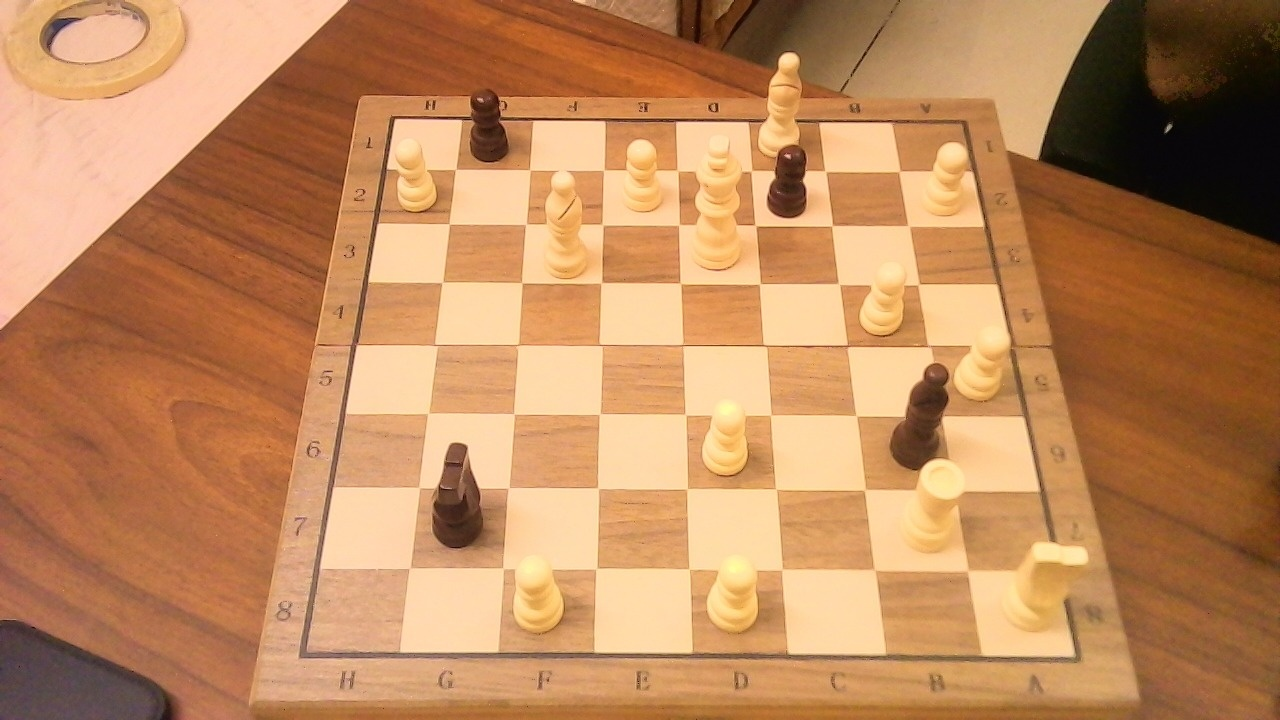B: (531, 159, 596, 281), (754, 41, 813, 162)
K: (684, 123, 753, 275)
N: (993, 529, 1097, 637)
P: (699, 544, 768, 637), (505, 544, 572, 638), (952, 316, 1018, 404), (695, 388, 755, 479), (853, 252, 915, 338), (915, 133, 977, 219), (612, 130, 669, 217), (386, 130, 443, 214)
R: (892, 447, 973, 560)
b: (884, 350, 962, 474)
n: (421, 428, 497, 551)
p: (760, 135, 820, 222), (463, 80, 518, 165)
